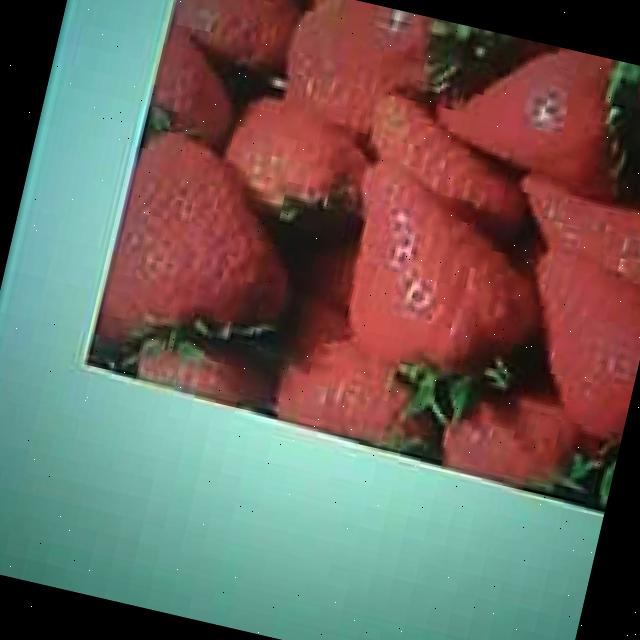strawberry: (328, 161, 558, 387), (99, 121, 312, 348), (438, 29, 640, 203)
